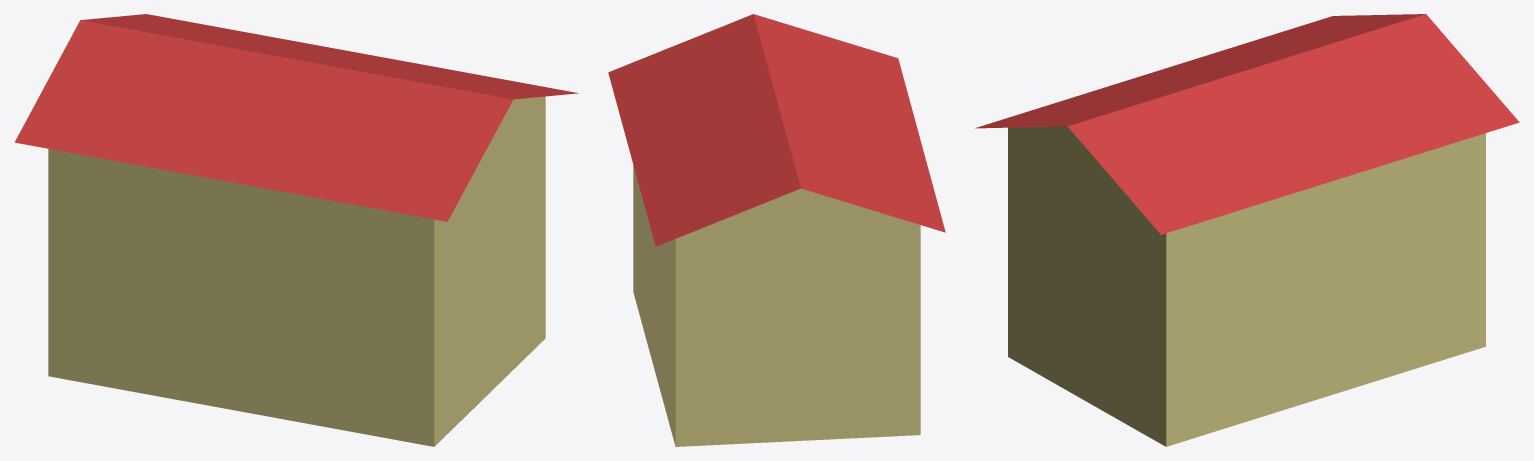
3 views of the same model, side by side, from view 1: azimuth 30°, elevation 25°; view 2: azimuth 150°, elevation 25°; view 3: azimuth 270°, elevation 25° (orthographic). The views are drawn at different scales.
Bounding box in the file's own units: 16.01 × 16.86 × 9.6.
